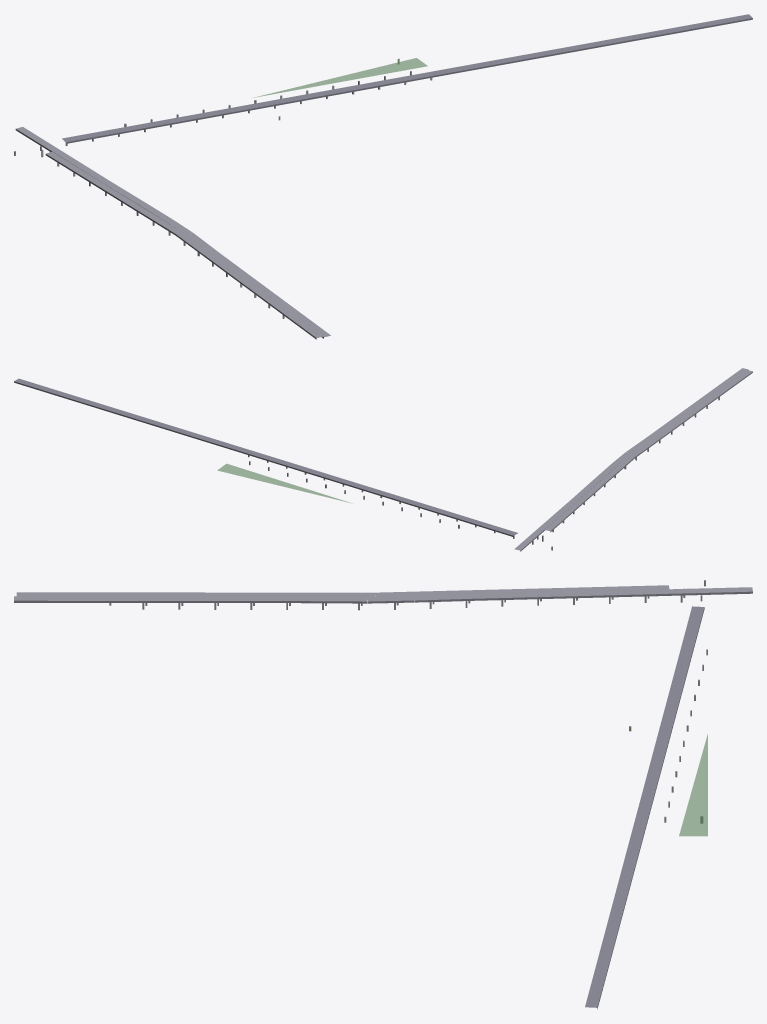
3 views of the same model, one above another, from view 1: azimuth 30°, elevation 25°; view 2: azimuth 150°, elevation 25°; view 3: azimuth 270°, elevation 25° (orthographic). The views are drawn at different scales.
Size of the model in its own units: 845 by 12.76 by 617.
